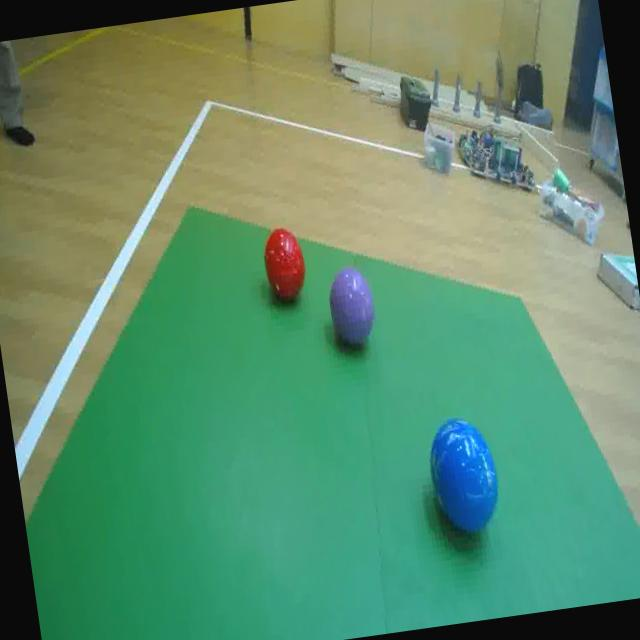blue_ball: (426, 416, 508, 539)
purple_ball: (326, 268, 378, 350)
red_ball: (260, 224, 312, 306)
